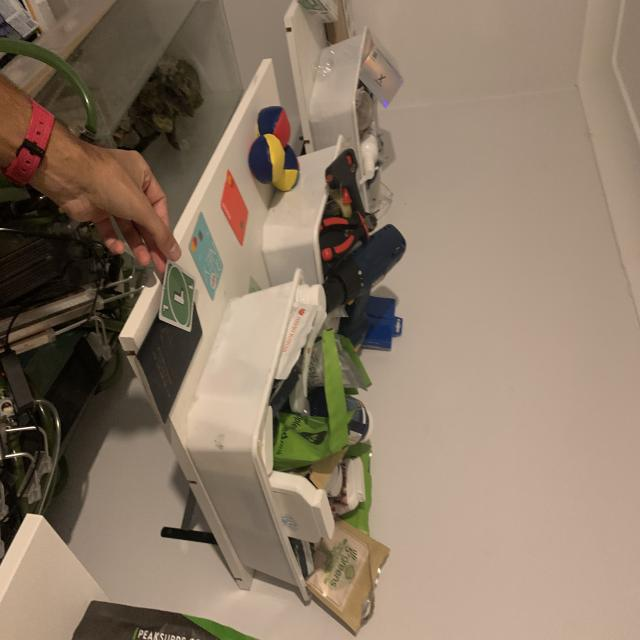lgreen-1: (185, 278, 195, 292)
